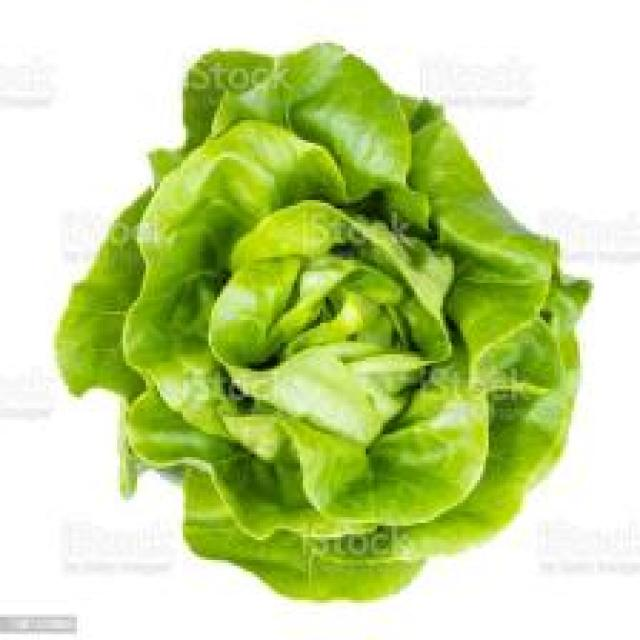Lettuce: (50, 43, 589, 605)
